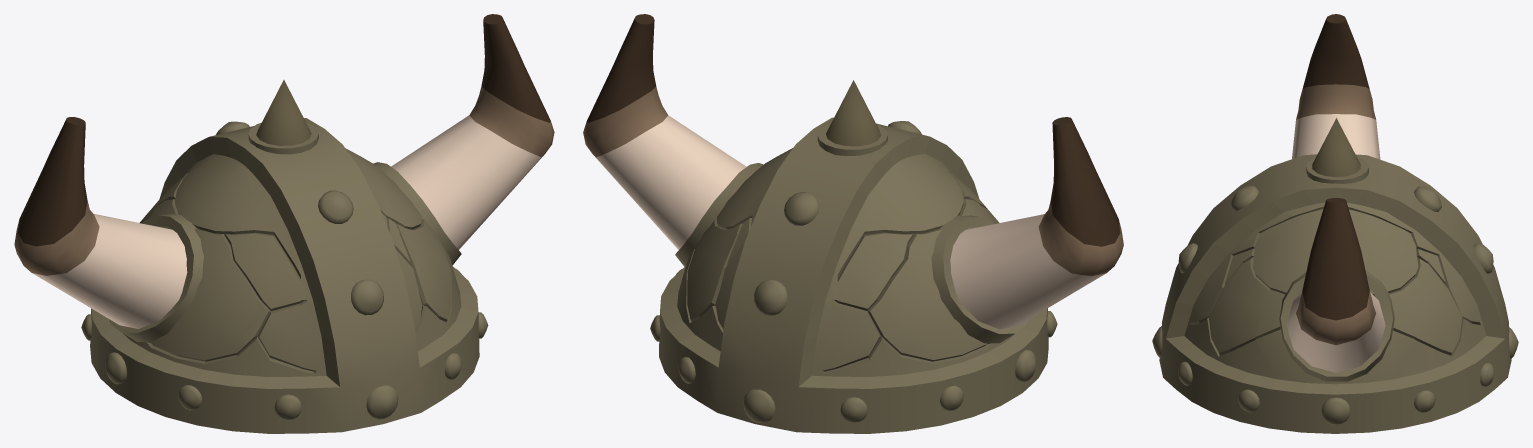
File: VikingHelmet.fbx
The picture shows the model from 3 angles, left to right: view 1: azimuth 30°, elevation 25°; view 2: azimuth 150°, elevation 25°; view 3: azimuth 270°, elevation 25°; orthographic projection. The views are drawn at different scales.
Parts seen in each view (by area): view 1: VikingHelmet; view 2: VikingHelmet; view 3: VikingHelmet.
Part boxes in pixels (<box>): VikingHelmet: <box>14,14,554,433</box>; VikingHelmet: <box>583,14,1123,433</box>; VikingHelmet: <box>1152,14,1518,433</box>.
Bounding box in the file's own units: 127 × 65.24 × 86.
